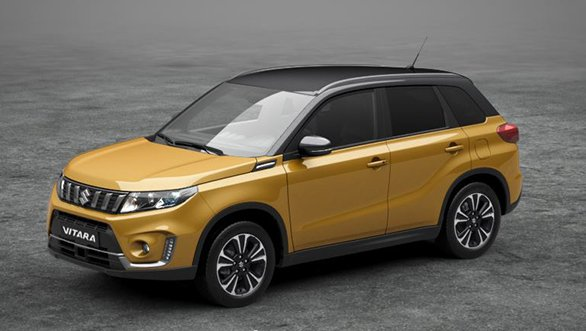car: (49, 60, 519, 298)
